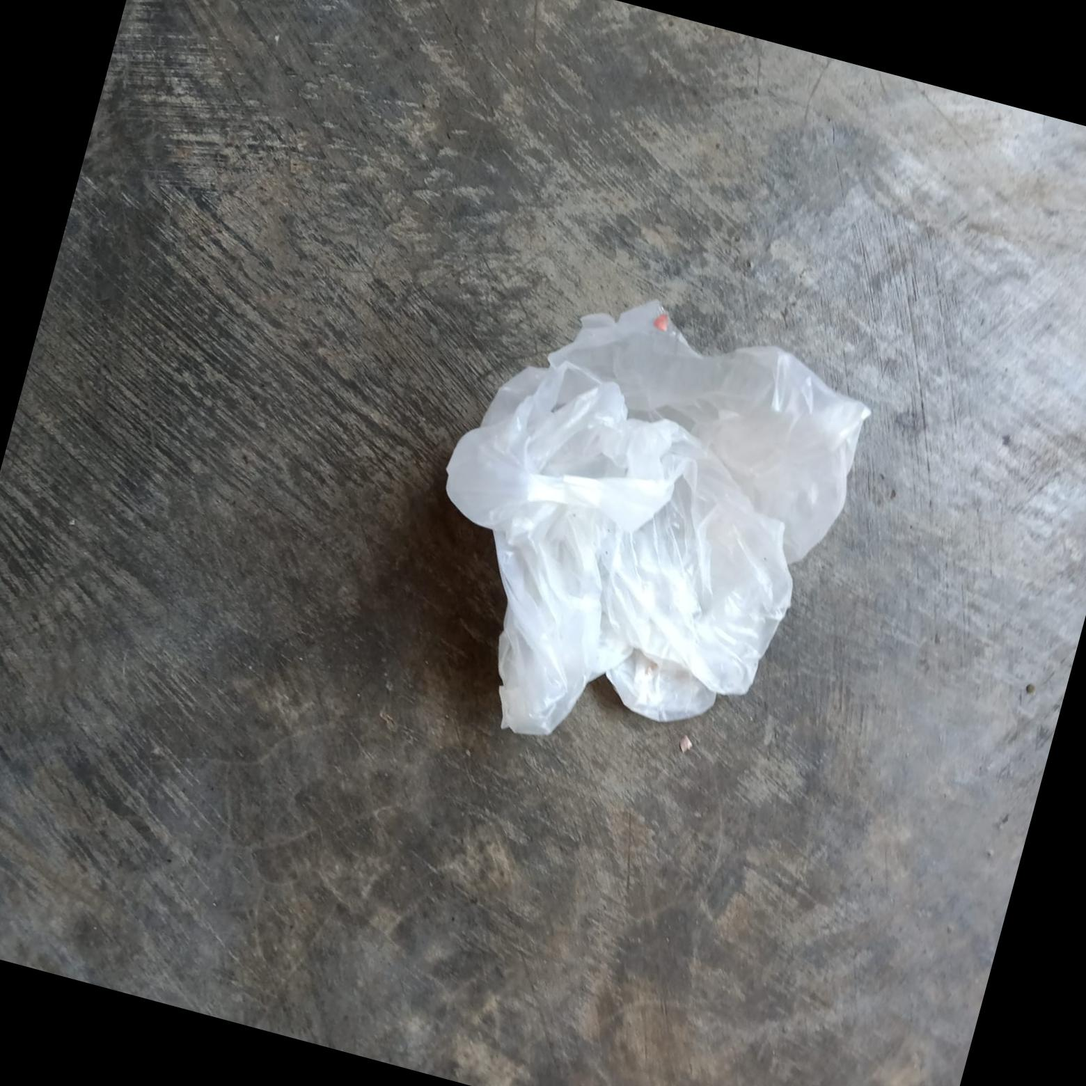Plastik: (384, 261, 884, 802)
